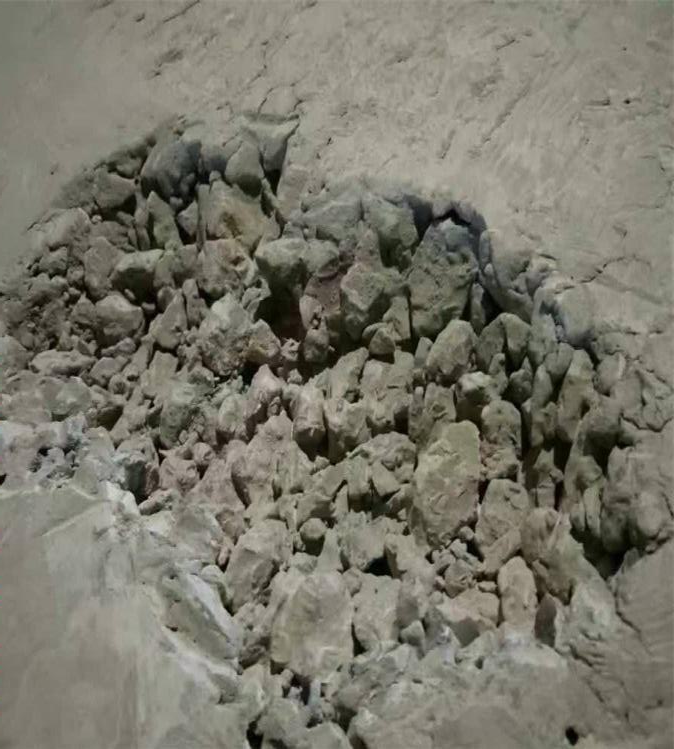Spalling: (1, 112, 674, 749)
